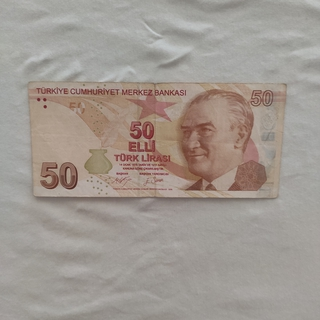50TLFront: (26, 81, 286, 198)
